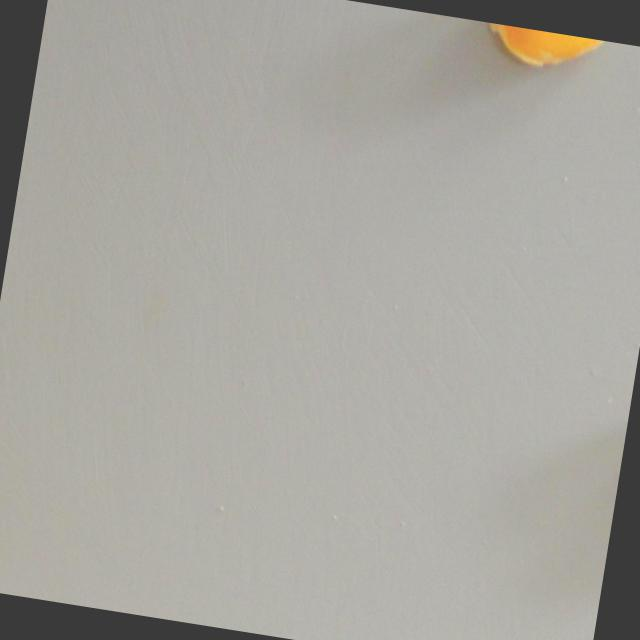pelicula: (480, 22, 614, 80)
